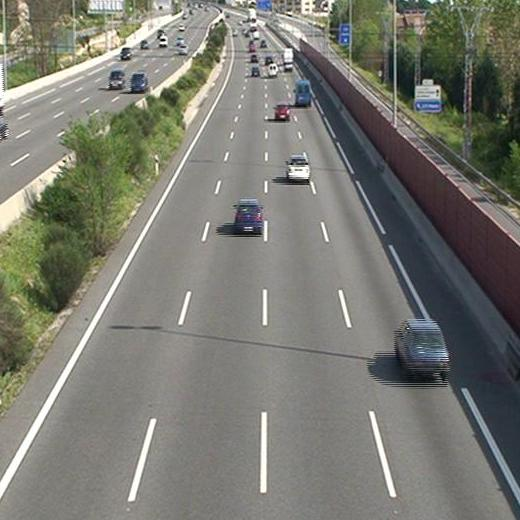car: (397, 321, 450, 376), (234, 200, 263, 234), (287, 156, 310, 180), (274, 103, 291, 121), (283, 61, 294, 71), (250, 66, 260, 77), (263, 56, 273, 64)
van: (294, 80, 311, 106), (284, 48, 294, 64), (268, 63, 278, 78)
